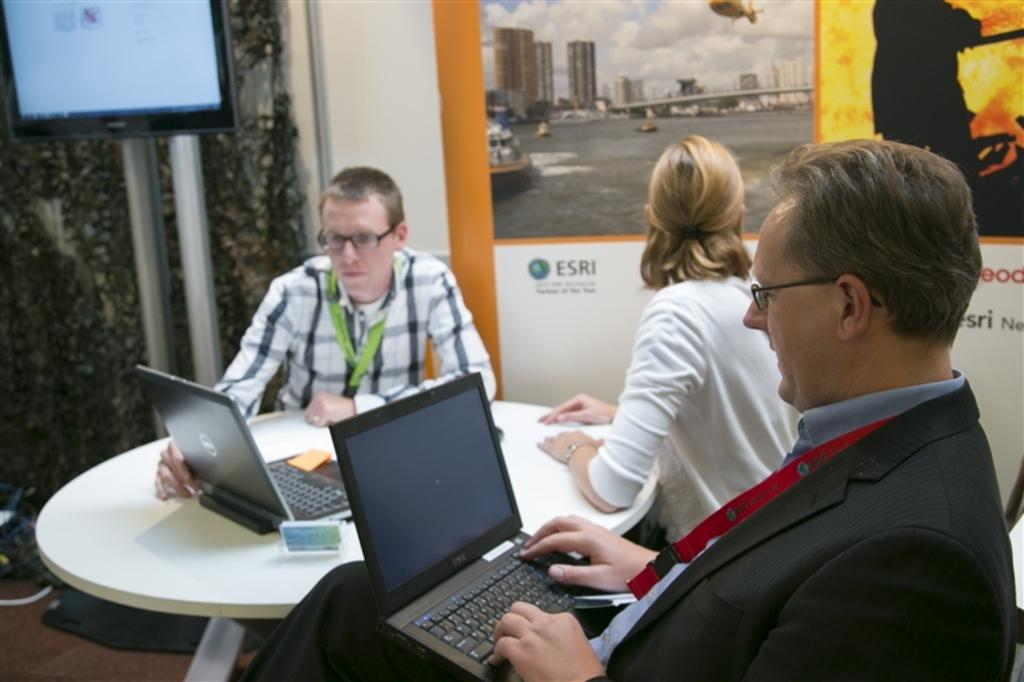Computer-keyboard: (416, 545, 595, 673), (269, 457, 351, 519)
Computer-monitor: (0, 0, 237, 141)
Laptop: (332, 372, 617, 682), (134, 362, 353, 534)
